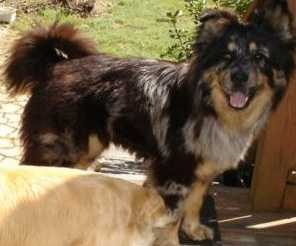dog: (20, 18, 289, 219)
